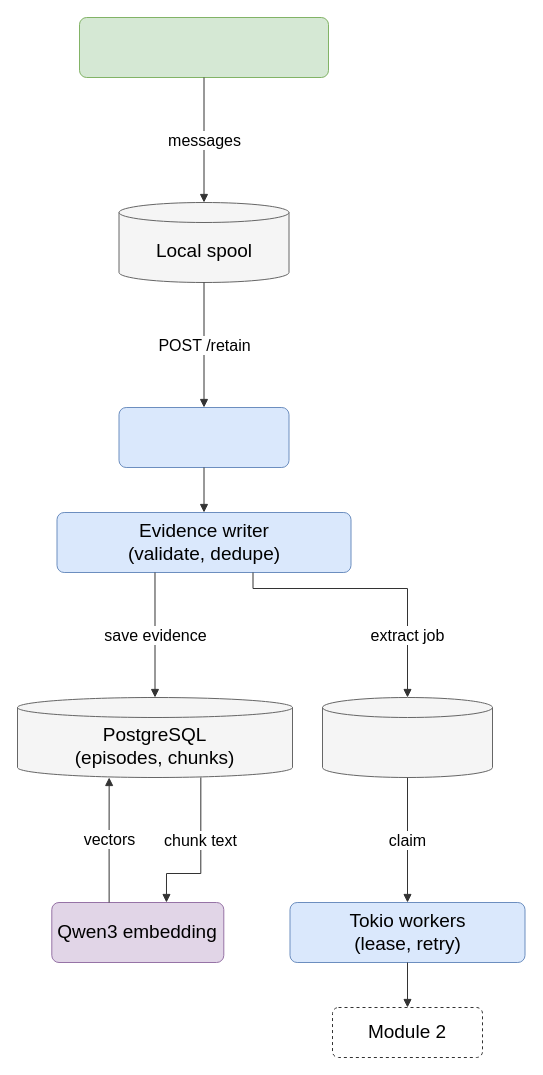
Some shapes in this 543 by 1075 pixel diagram are drawn without their labels. The shapes that lost their labels are listed below. From the top down, each one's centre as x and y in pixels, then its label:
(203,47): Evidence collector (Pi agent)
(203,437): Retain API
(407,737): Job queue
